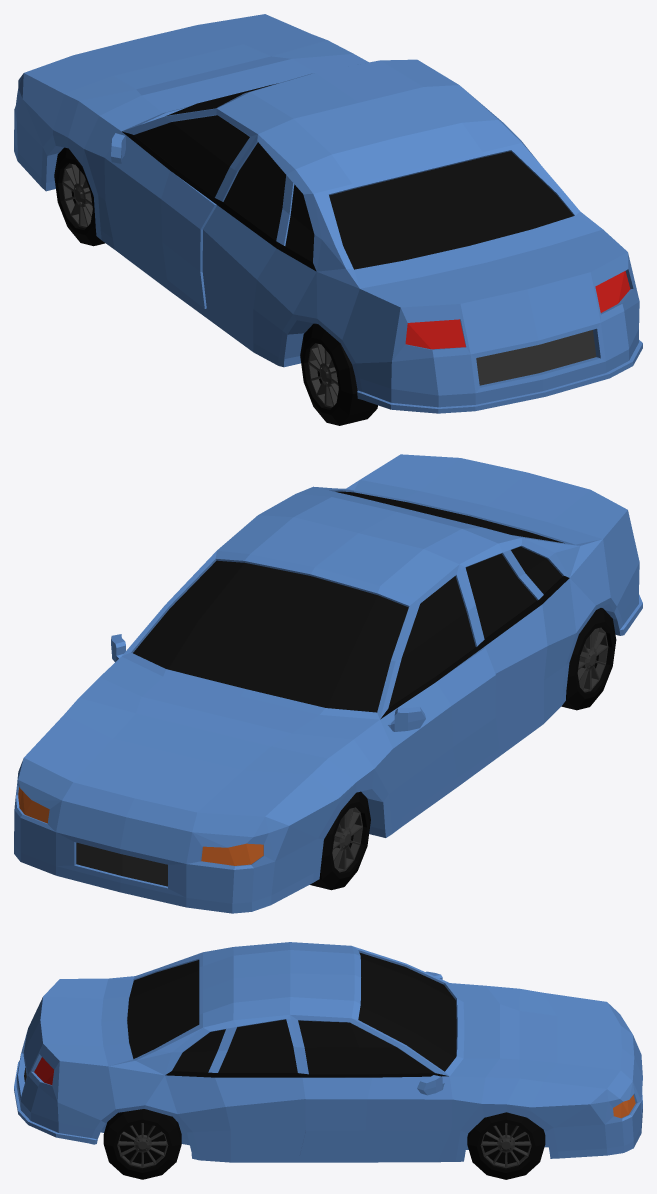
File: NormalCar1.glb
3 views of the same model, one above another, from view 1: azimuth 30°, elevation 25°; view 2: azimuth 150°, elevation 25°; view 3: azimuth 270°, elevation 25° (orthographic). The views are drawn at different scales.
Visible parts, largest first — view 1: NormalCar1, NormalCar1_BackWheels, NormalCar1_FrontLeftWheel; view 2: NormalCar1, NormalCar1_BackWheels, NormalCar1_FrontLeftWheel; view 3: NormalCar1, NormalCar1_BackWheels, NormalCar1_FrontRightWheel.
Part boxes in pixels (x1,y1,x2,y2): NormalCar1: (14, 14, 642, 413); NormalCar1_BackWheels: (300, 323, 377, 425); NormalCar1_FrontLeftWheel: (54, 147, 104, 246); NormalCar1: (14, 454, 642, 913); NormalCar1_BackWheels: (561, 608, 616, 710); NormalCar1_FrontLeftWheel: (310, 791, 370, 890); NormalCar1: (14, 942, 642, 1162); NormalCar1_BackWheels: (103, 1109, 181, 1179); NormalCar1_FrontRightWheel: (467, 1112, 545, 1179).
Bounding box in the file's own units: 1.88 × 1.22 × 4.39.
